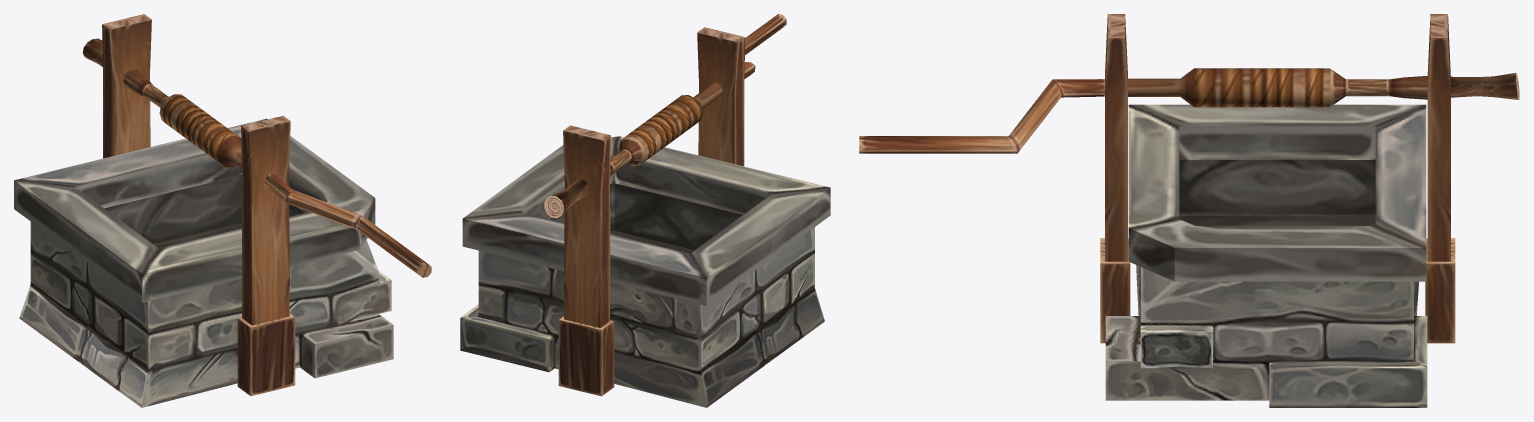
File: shuijing02.fbx
The picture shows the model from 3 angles, left to right: view 1: azimuth 30°, elevation 25°; view 2: azimuth 150°, elevation 25°; view 3: azimuth 270°, elevation 25°; orthographic projection. The views are drawn at different scales.
Parts seen in each view (by area): view 1: 对象002; view 2: 对象002; view 3: 对象002.
Boxes of the visible parts, x1=… form: 对象002: x1=14, y1=14, x2=431, y2=407; 对象002: x1=460, y1=14, x2=830, y2=407; 对象002: x1=859, y1=14, x2=1519, y2=407.
Size of the model in its own units: 26.94 by 26.51 by 52.09.
Materials: 1 (1 with a texture image).
